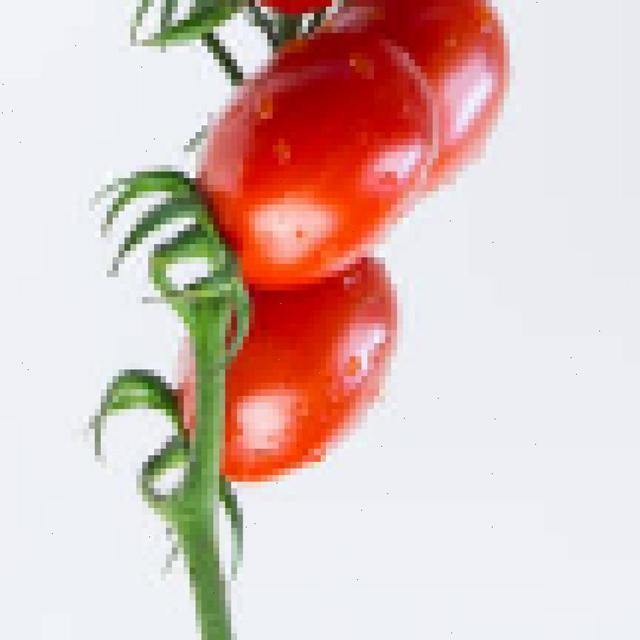Healthy Fruit: (126, 56, 277, 249)
